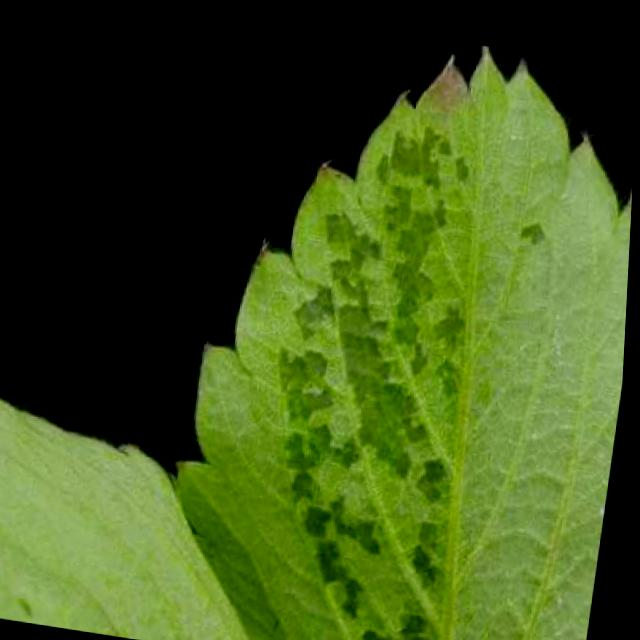Angular Leafspot: (179, 39, 634, 640), (0, 394, 262, 640)
